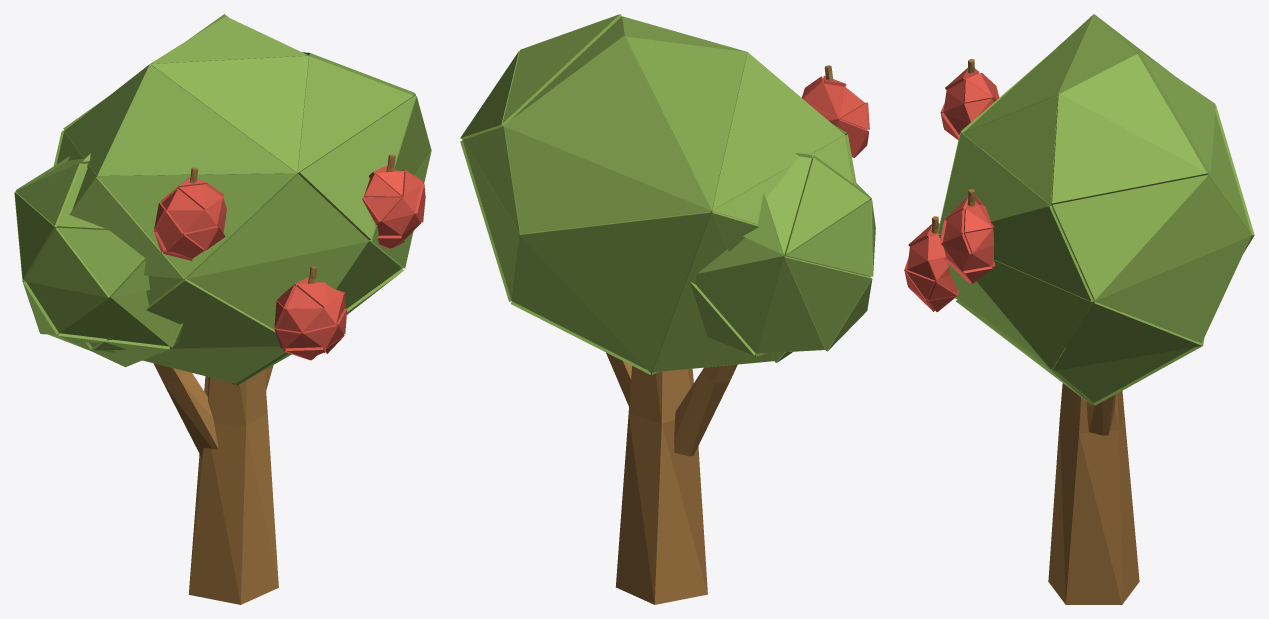
3 renders of one model, left to right at view 1: azimuth 30°, elevation 25°; view 2: azimuth 150°, elevation 25°; view 3: azimuth 270°, elevation 25°, orthographic. The views are drawn at different scales.
Visible parts, largest first — view 1: Tree_Apple_A_Geometry; view 2: Tree_Apple_A_Geometry; view 3: Tree_Apple_A_Geometry.
Part boxes in pixels (bbox=[...]): Tree_Apple_A_Geometry: bbox=[14, 14, 431, 604]; Tree_Apple_A_Geometry: bbox=[460, 14, 875, 604]; Tree_Apple_A_Geometry: bbox=[904, 14, 1254, 604].
Size of the model in its own units: 1.93 by 2.5 by 1.46.
